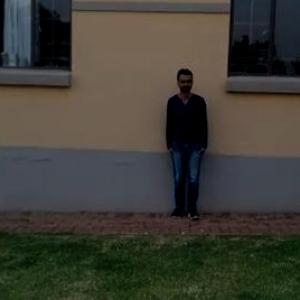follow: (164, 66, 209, 218)
